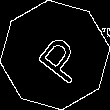P_NW: (24, 25, 86, 85)
